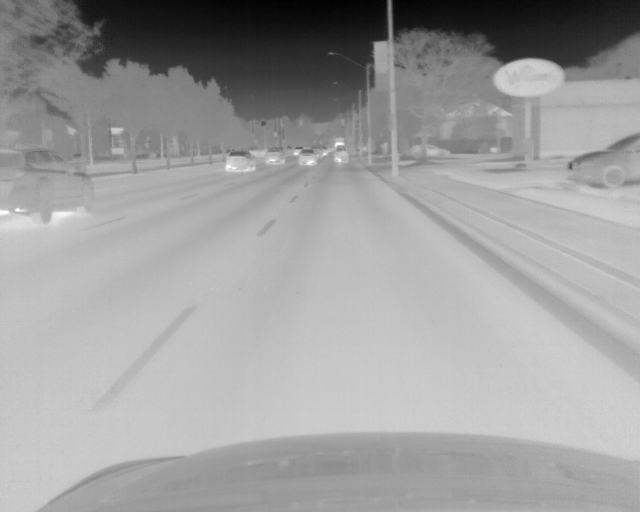car: (1, 145, 95, 224), (566, 132, 640, 188), (224, 150, 258, 172), (407, 143, 451, 160), (264, 146, 287, 167), (297, 149, 316, 168), (333, 145, 348, 165), (315, 147, 327, 157), (291, 145, 302, 155)
